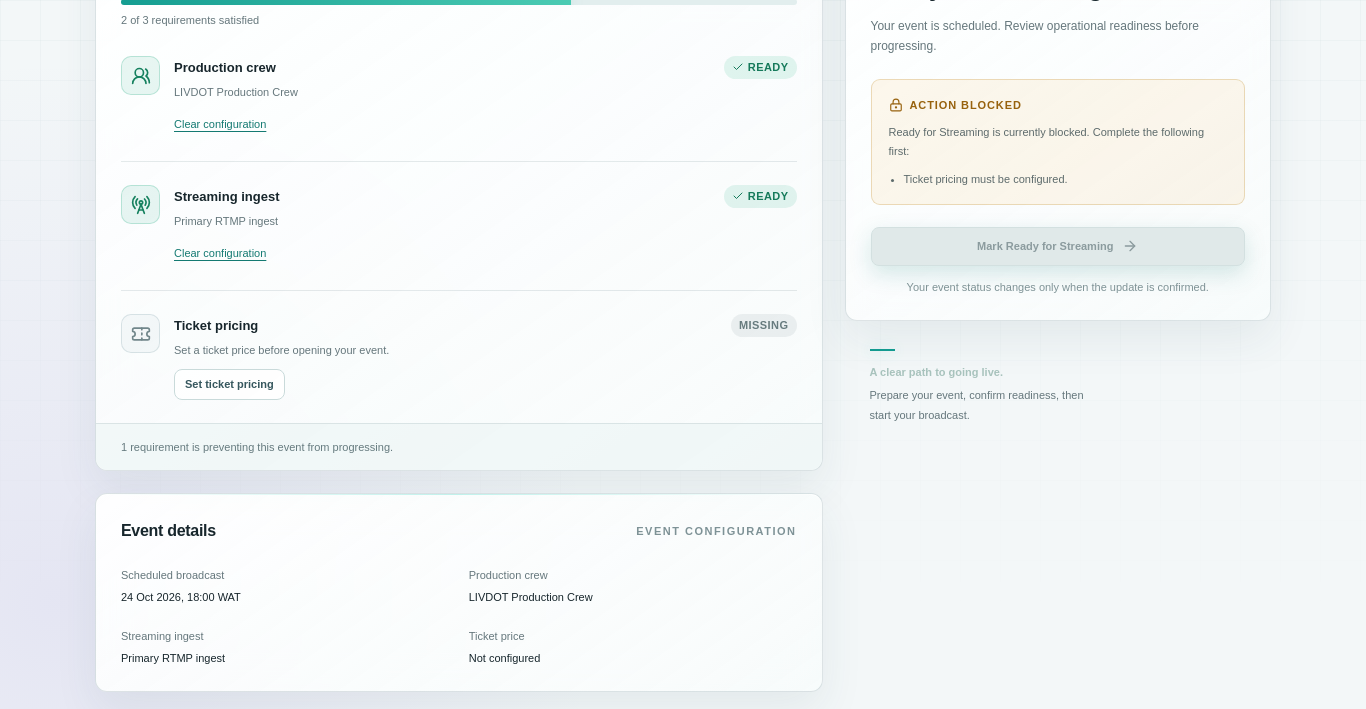
Test: host event dashboard › completes the last requirement but waits for an explicit Ready transition
This screenshot has width=1366, height=709.
(page scrolled)
Click the button "Set ticket pricing". click: (229, 384)
box: [174,369,285,400]
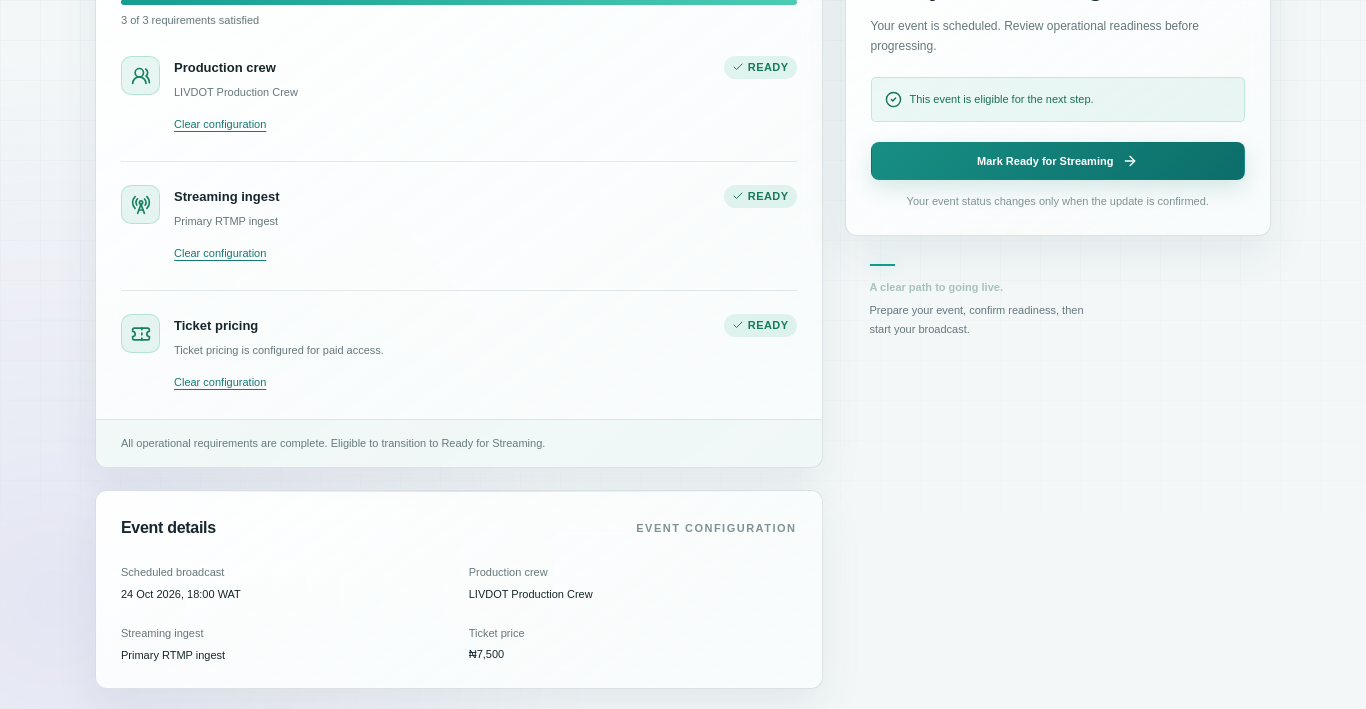
Now the button "Mark Ready for Streaming" is enabled
Now the text "3 of 3 requirements satisfied" is shown, box [121,14,259,26]
Click the button "Mark Ready for Streaming". click: (1058, 161)
box: [870,142,1245,180]
(page scrolled)
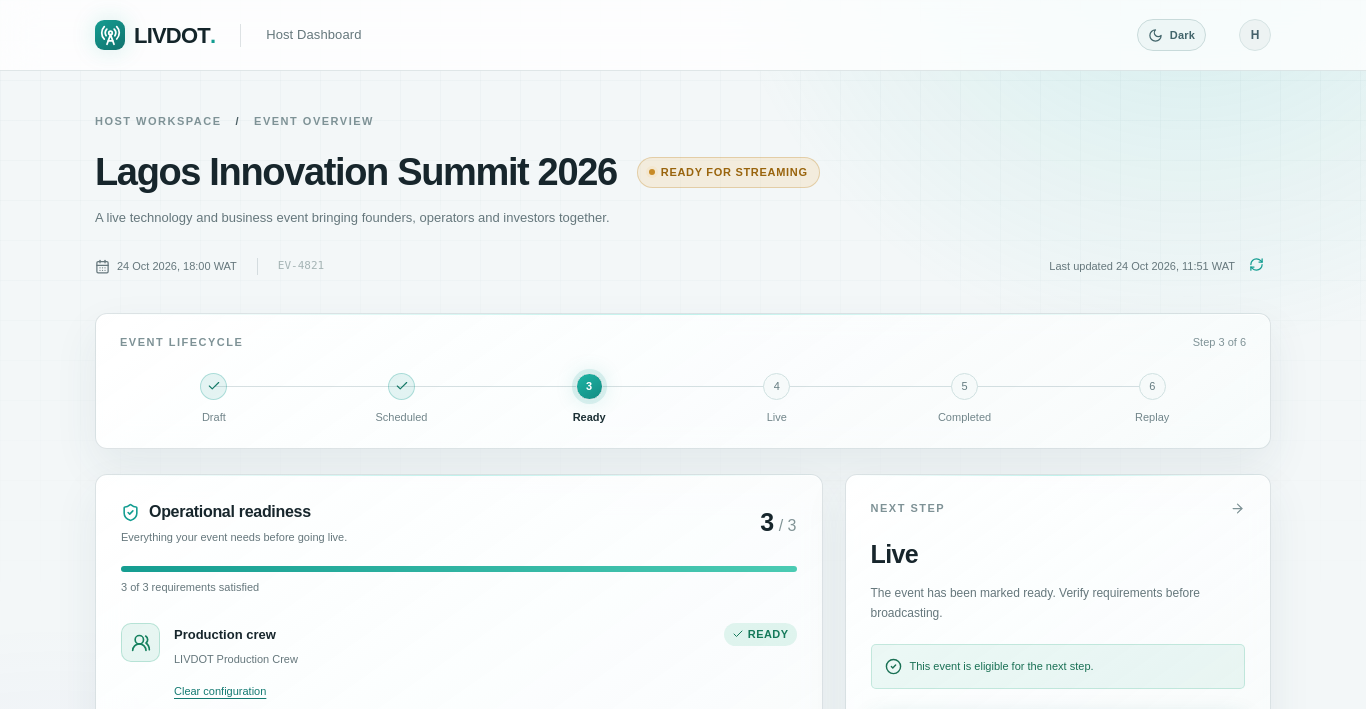
Now the element with test id "event-status" reads "Ready for Streaming", box [661,166,808,178]
